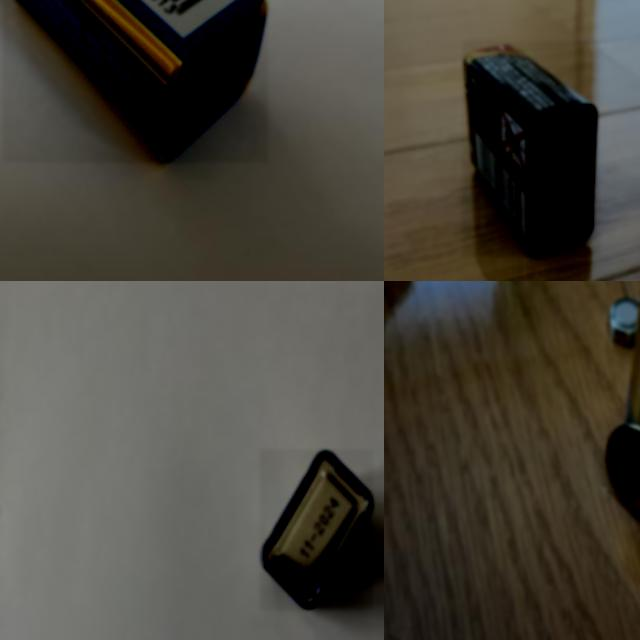9V: (3, 0, 268, 163), (462, 41, 600, 257), (260, 449, 373, 610)
